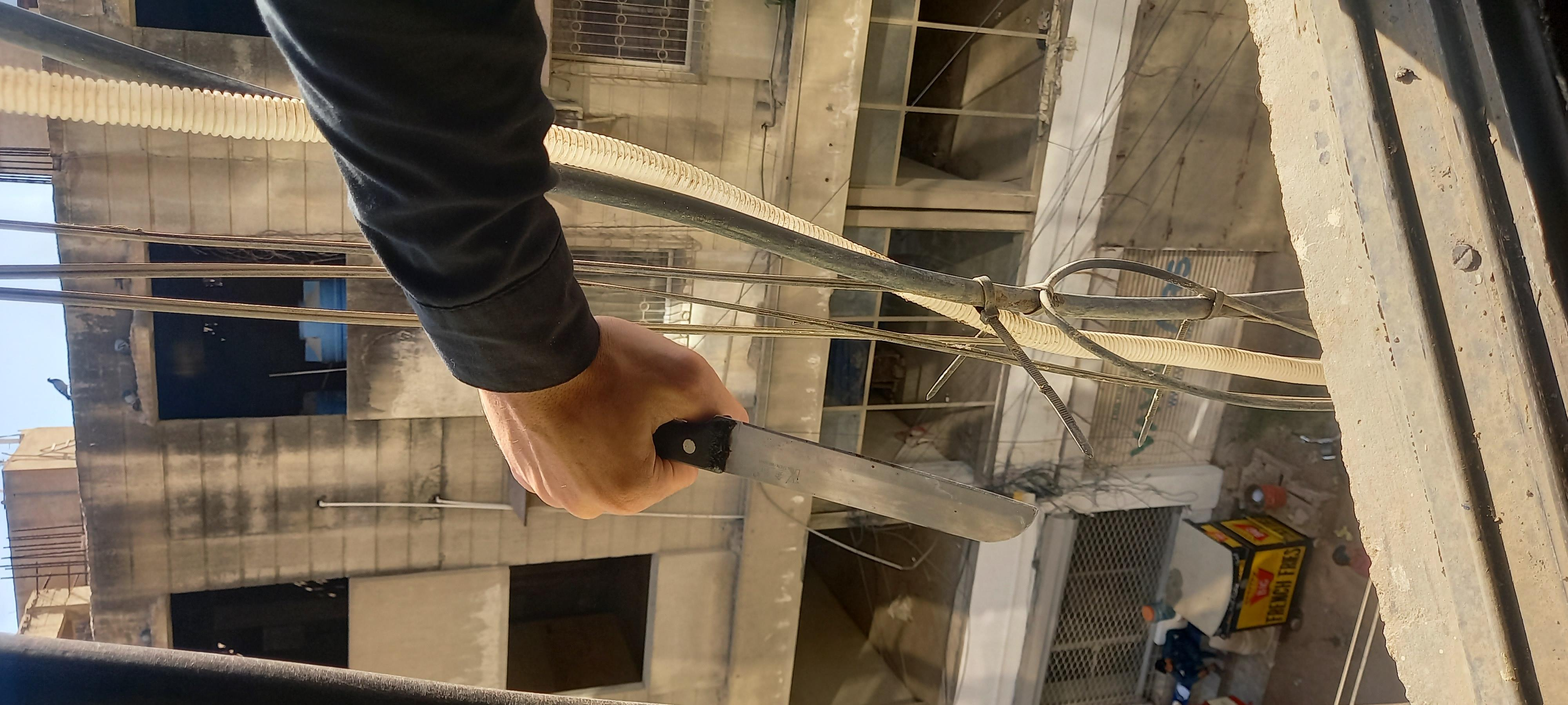knives: (341, 251, 712, 469)
